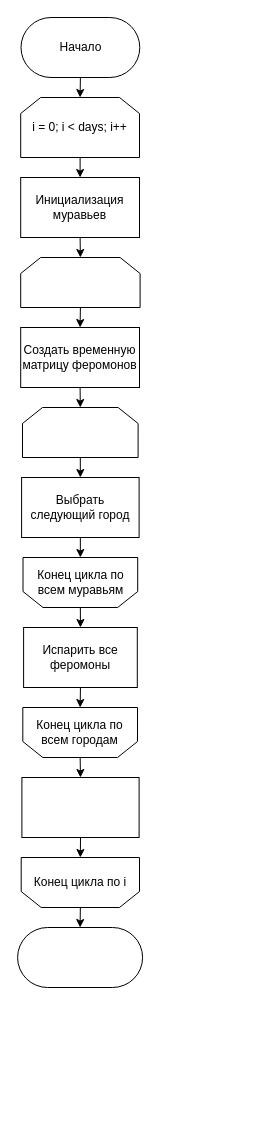
The diagram is 253 pixels wide and 1143 high, and some of its shapes have lost their labels. Each missing label, with the box of its shape:
Выбрать кратчайший путь из найденных: (21, 776, 139, 838)
Конец: (17, 926, 143, 988)
Цикл по всем городам: (20, 256, 140, 308)
Цикл по всем муравьям: (22, 406, 138, 458)
